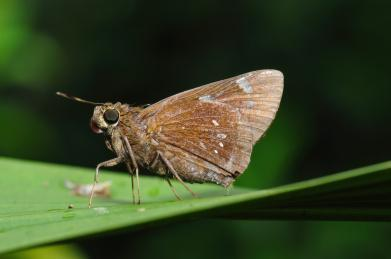Hesperiidae: (53, 67, 287, 207)
